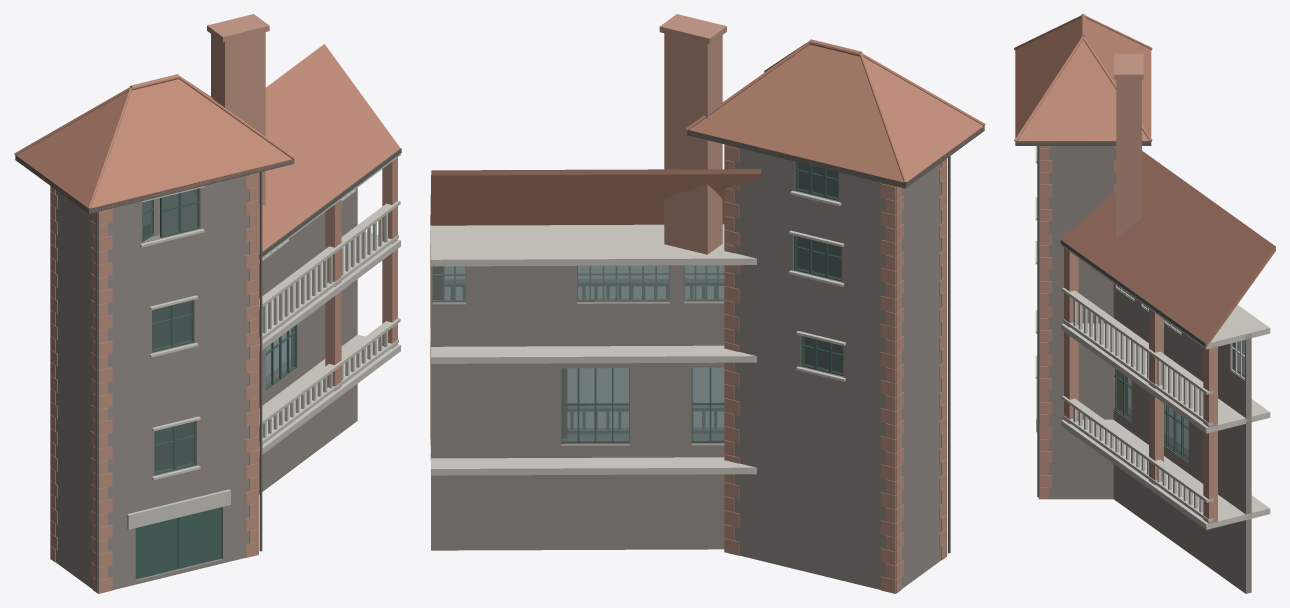
The model's file is lod-source.glb.
3 renders of one model, left to right at view 1: azimuth 30°, elevation 25°; view 2: azimuth 150°, elevation 25°; view 3: azimuth 270°, elevation 25°, orthographic. The views are drawn at different scales.
Visible parts, largest first — view 1: 新华村15号院面方塔与斜接侧廊; view 2: 新华村15号院面方塔与斜接侧廊; view 3: 新华村15号院面方塔与斜接侧廊.
Boxes of the visible parts, x1,y1,x2,y2 form: 新华村15号院面方塔与斜接侧廊: [14, 14, 401, 593]; 新华村15号院面方塔与斜接侧廊: [430, 14, 985, 593]; 新华村15号院面方塔与斜接侧廊: [1014, 14, 1275, 593].
Bounding box in the file's own units: 14.61 × 16.28 × 8.63.
